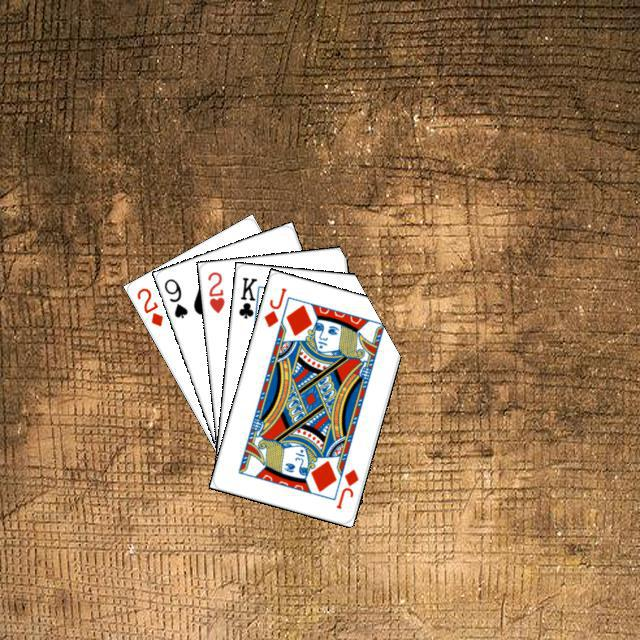2d: (132, 283, 165, 328)
2h: (203, 267, 226, 315)
9s: (159, 274, 190, 320)
Jd: (259, 283, 289, 329), (331, 464, 360, 511)
Kc: (234, 272, 262, 326)
